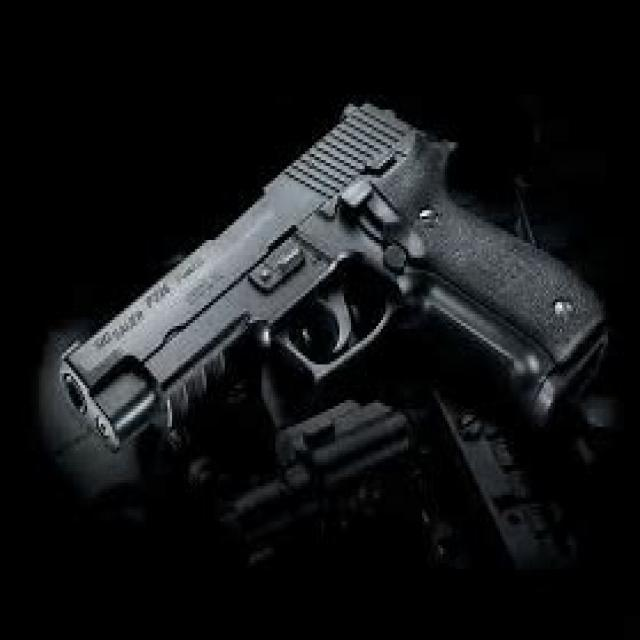Pistol: (25, 82, 632, 557)
